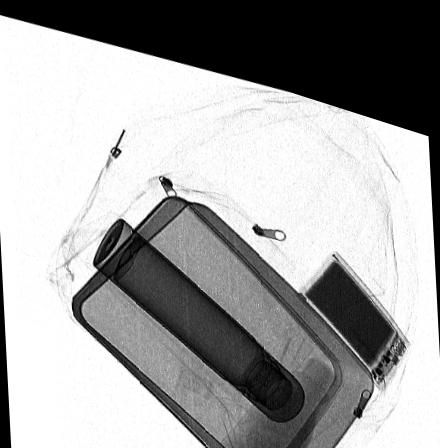Powerbank: (295, 230, 411, 367)
